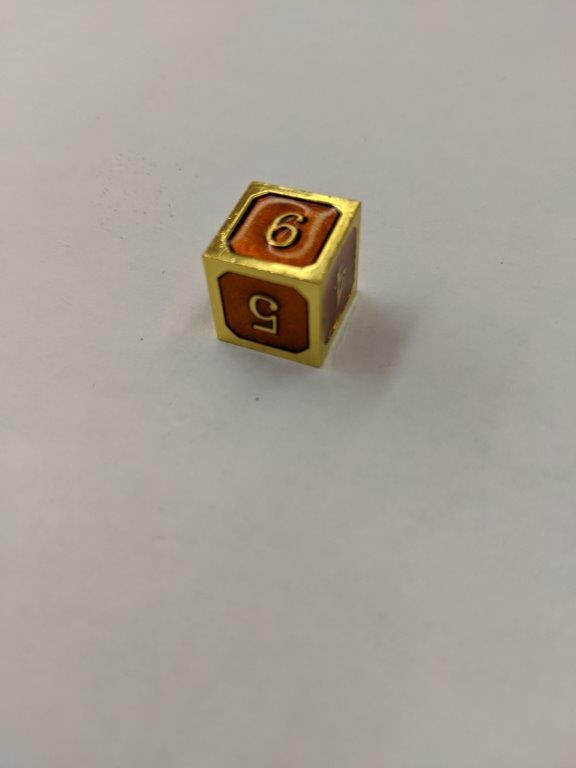d6-6: (201, 176, 363, 368)
